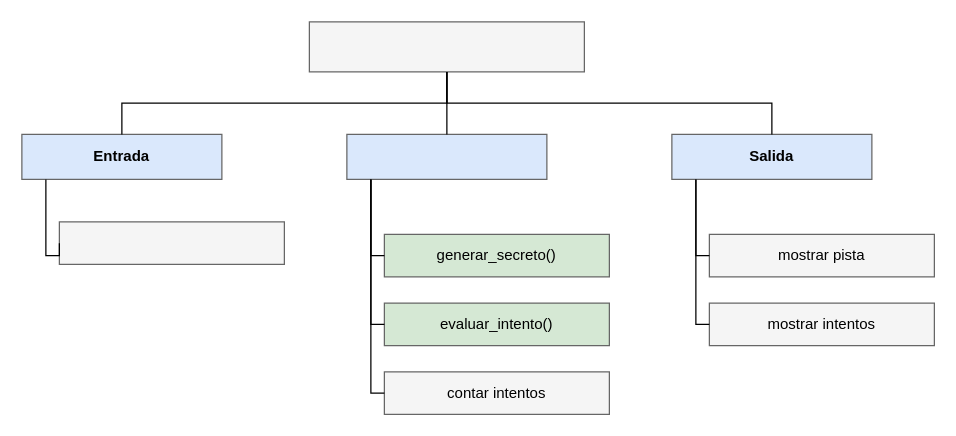
This 956x436 diagram has some shape labels left out. Here are the shapes that lost their labels. From the top down, the box of each, then its label:
(308, 21, 584, 72): Adivina el número
(346, 133, 547, 179): Proceso
(58, 221, 284, 264): leer intento
